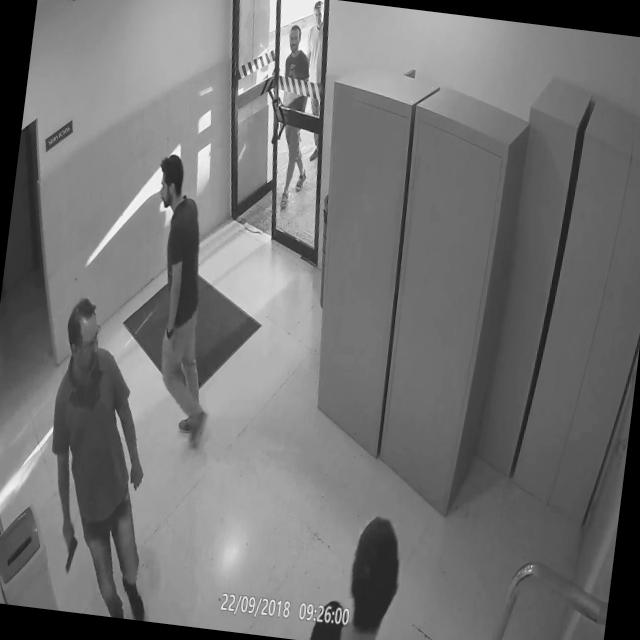gun: (60, 534, 80, 580)
person: (124, 145, 248, 453), (307, 501, 413, 640), (263, 21, 329, 218), (291, 0, 347, 169)
person with a gun: (28, 292, 179, 620)
